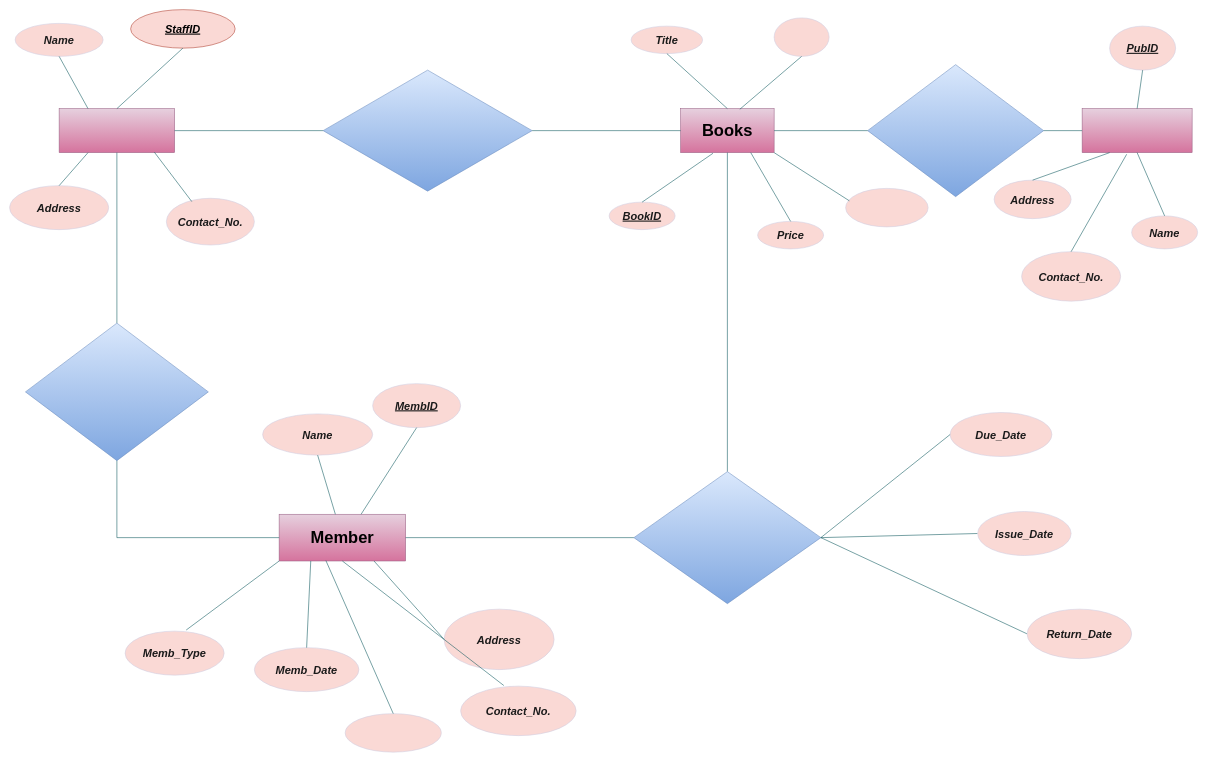
Image size: 1207x766. Some labels were removed from this diagram. Each missing label, with the centre of its shape:
"Author" goes at [801,36].
"Book_Status" goes at [886,207].
"Borrowed by" goes at [727,537].
"Expiry_Date" goes at [393,732].
"Issue/ Receive" goes at [427,130].
"Published by" goes at [955,130].
"Publisher" goes at [1137,130].
"Send/ Request" goes at [116,392].
"Staff" goes at [117,130].
